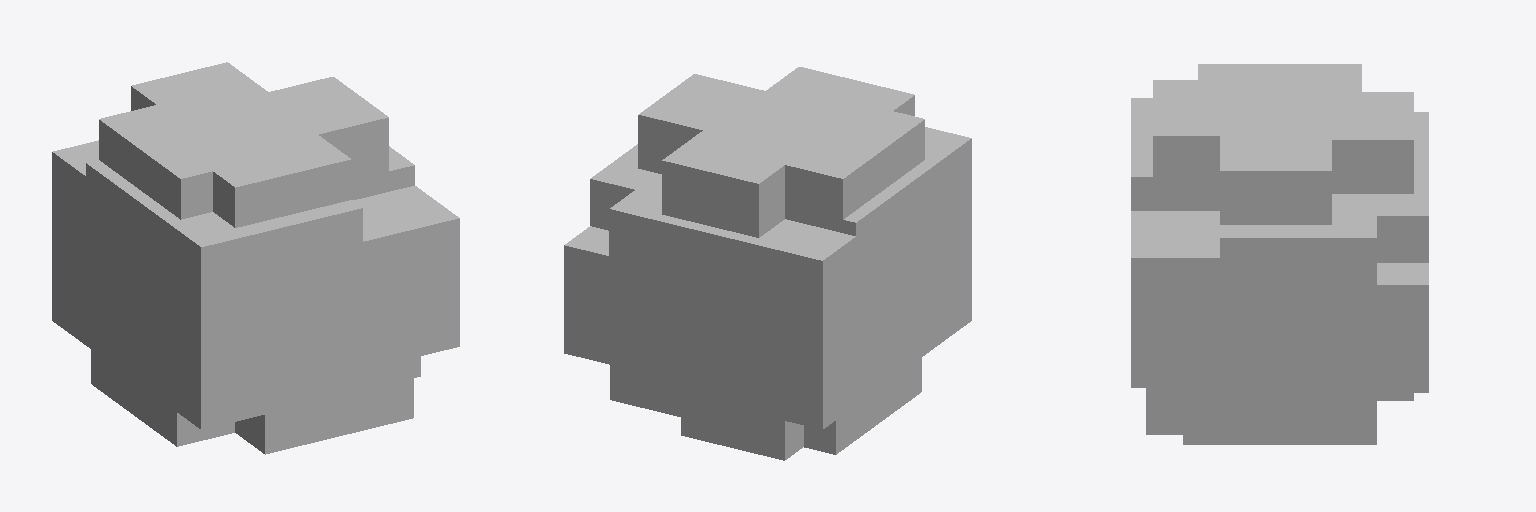
Rendered from projectile.obj.
3 renders of one model, left to right at view 1: azimuth 30°, elevation 25°; view 2: azimuth 150°, elevation 25°; view 3: azimuth 270°, elevation 25°, orthographic.
Visible parts, largest first — view 1: projectile; view 2: projectile; view 3: projectile.
Boxes of the visible parts, box(x1,y1,x2,y2) form: projectile: box(52, 62, 459, 454); projectile: box(564, 67, 971, 460); projectile: box(1131, 64, 1428, 444).
Size of the model in its own units: 40 by 40 by 40.